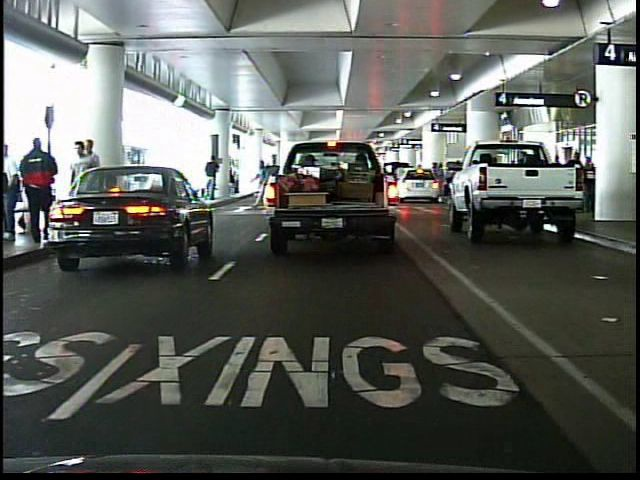person: (19, 135, 58, 245), (85, 133, 106, 231), (250, 154, 273, 207)
